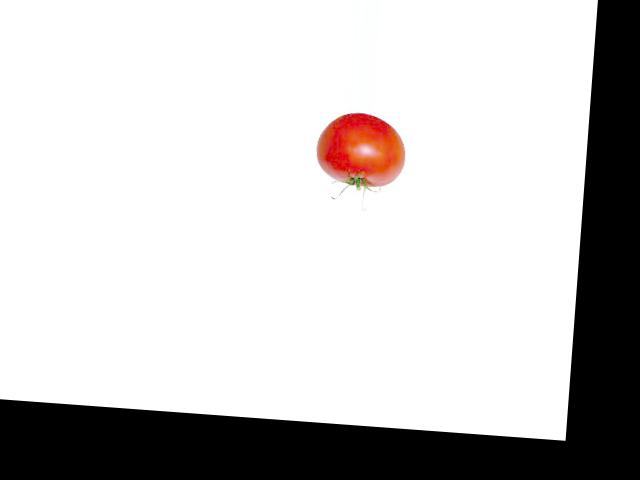tomato: (315, 110, 407, 189)
